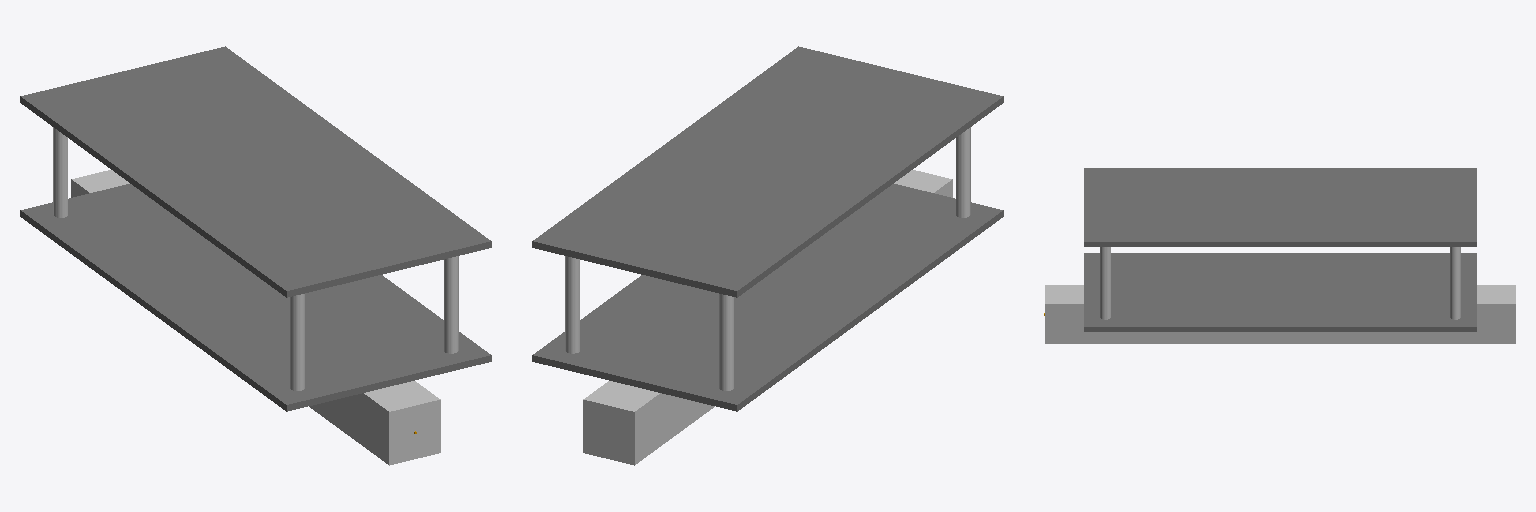
URDF robot description (kinect):
<?xml version="1.0" ?>
<!-- =================================================================================== -->
<!-- |    This document was autogenerated by xacro from kinect_mount.test.xacro        | -->
<!-- |    EDITING THIS FILE BY HAND IS NOT RECOMMENDED                                 | -->
<!-- =================================================================================== -->
<robot name="kinect" xmlns:controller="http://playerstage.sourceforge.net/gazebo/xmlschema/#controller" xmlns:interface="http://playerstage.sourceforge.net/gazebo/xmlschema/#interface" xmlns:sensor="http://playerstage.sourceforge.net/gazebo/xmlschema/#sensor" xmlns:xacro="http://ros.org/wiki/xacro">
  <!-- Included URDF Files -->
  <!-- add the root link -->
  <link name="base_link">
    <visual>
      <origin rpy="0 0 0" xyz="0 0 0"/>
      <geometry>
        <box size="0.001 0.001 0.001"/>
      </geometry>
    </visual>
  </link>
  <!-- Add the kinect camera -->
  <joint name="test_kinect_sensor_beam_joint" type="fixed">
    <origin rpy="-1.570795 -1.570795 0" xyz="0 0 0"/>
    <parent link="base_link"/>
    <child link="test_kinect_sensor_beam_link"/>
  </joint>
  <link name="test_kinect_sensor_beam_link">
    <inertial>
      <mass value="0.1"/>
      <origin rpy="0 0 0" xyz="0 0 0"/>
      <inertia ixx="0.01" ixy="0.0" ixz="0.0" iyy="0.01" iyz="0.0" izz="0.01"/>
    </inertial>
    <visual>
      <origin rpy="0 0 0" xyz="0 0 0.136525"/>
      <geometry>
        <box size="0.0254 0.0254 0.27305"/>
      </geometry>
      <material name="beam_grey">
        <color rgba="0.8 0.8 0.8 1"/>
      </material>
    </visual>
  </link>
  <joint name="test_kinect_base_plate_joint" type="fixed">
    <origin rpy="1.570795 0 1.570795" xyz="0.0127 0 0.136525"/>
    <parent link="test_kinect_sensor_beam_link"/>
    <child link="test_kinect_base_plate_link"/>
  </joint>
  <link name="test_kinect_base_plate_link">
    <inertial>
      <mass value="0.1"/>
      <origin rpy="0 0 0" xyz="0 0 0"/>
      <inertia ixx="0.01" ixy="0.0" ixz="0.0" iyy="0.01" iyz="0.0" izz="0.01"/>
    </inertial>
    <visual>
      <origin rpy="0 0 0" xyz="0 0 0.0015875"/>
      <geometry>
        <box size="0.1016 0.2286 0.003175"/>
      </geometry>
      <material name="sheet_grey">
        <color rgba="0.5 0.5 0.5 1"/>
      </material>
    </visual>
  </link>
  <joint name="test_kinect_standoff_1_joint" type="fixed">
    <origin rpy="0 0 0" xyz="0.0381 -0.1016 0.003175"/>
    <parent link="test_kinect_base_plate_link"/>
    <child link="test_kinect_standoff_1_link"/>
  </joint>
  <link name="test_kinect_standoff_1_link">
    <inertial>
      <mass value="0.1"/>
      <origin rpy="0 0 0" xyz="0 0 0"/>
      <inertia ixx="0.01" ixy="0.0" ixz="0.0" iyy="0.01" iyz="0.0" izz="0.01"/>
    </inertial>
    <visual>
      <origin rpy="0 0 0" xyz="0 0 0.0254"/>
      <geometry>
        <cylinder length="0.0508" radius="0.003175"/>
      </geometry>
      <material name="beam_grey">
        <color rgba="0.8 0.8 0.8 1"/>
      </material>
    </visual>
  </link>
  <joint name="test_kinect_standoff_2_joint" type="fixed">
    <origin rpy="0 0 0" xyz="0.0381 0.1016 0.003175"/>
    <parent link="test_kinect_base_plate_link"/>
    <child link="test_kinect_standoff_2_link"/>
  </joint>
  <link name="test_kinect_standoff_2_link">
    <inertial>
      <mass value="0.1"/>
      <origin rpy="0 0 0" xyz="0 0 0"/>
      <inertia ixx="0.01" ixy="0.0" ixz="0.0" iyy="0.01" iyz="0.0" izz="0.01"/>
    </inertial>
    <visual>
      <origin rpy="0 0 0" xyz="0 0 0.0254"/>
      <geometry>
        <cylinder length="0.0508" radius="0.003175"/>
      </geometry>
      <material name="beam_grey">
        <color rgba="0.8 0.8 0.8 1"/>
      </material>
    </visual>
  </link>
  <joint name="test_kinect_standoff_3_joint" type="fixed">
    <origin rpy="0 0 0" xyz="-0.0381 0.1016 0.003175"/>
    <parent link="test_kinect_base_plate_link"/>
    <child link="test_kinect_standoff_3_link"/>
  </joint>
  <link name="test_kinect_standoff_3_link">
    <inertial>
      <mass value="0.1"/>
      <origin rpy="0 0 0" xyz="0 0 0"/>
      <inertia ixx="0.01" ixy="0.0" ixz="0.0" iyy="0.01" iyz="0.0" izz="0.01"/>
    </inertial>
    <visual>
      <origin rpy="0 0 0" xyz="0 0 0.0254"/>
      <geometry>
        <cylinder length="0.0508" radius="0.003175"/>
      </geometry>
      <material name="beam_grey">
        <color rgba="0.8 0.8 0.8 1"/>
      </material>
    </visual>
  </link>
  <joint name="test_kinect_standoff_4_joint" type="fixed">
    <origin rpy="0 0 0" xyz="-0.0381 -0.1016 0.003175"/>
    <parent link="test_kinect_base_plate_link"/>
    <child link="test_kinect_standoff_4_link"/>
  </joint>
  <link name="test_kinect_standoff_4_link">
    <inertial>
      <mass value="0.1"/>
      <origin rpy="0 0 0" xyz="0 0 0"/>
      <inertia ixx="0.01" ixy="0.0" ixz="0.0" iyy="0.01" iyz="0.0" izz="0.01"/>
    </inertial>
    <visual>
      <origin rpy="0 0 0" xyz="0 0 0.0254"/>
      <geometry>
        <cylinder length="0.0508" radius="0.003175"/>
      </geometry>
      <material name="beam_grey">
        <color rgba="0.8 0.8 0.8 1"/>
      </material>
    </visual>
  </link>
  <joint name="test_kinect_top_plate_joint" type="fixed">
    <origin rpy="0 0 0" xyz="-0.0381 0.1016 0.0508"/>
    <parent link="test_kinect_standoff_1_link"/>
    <child link="test_kinect_top_plate_link"/>
  </joint>
  <link name="test_kinect_top_plate_link">
    <inertial>
      <mass value="0.1"/>
      <origin rpy="0 0 0" xyz="0 0 0"/>
      <inertia ixx="0.01" ixy="0.0" ixz="0.0" iyy="0.01" iyz="0.0" izz="0.01"/>
    </inertial>
    <visual>
      <origin rpy="0 0 0" xyz="0 0 0.0015875"/>
      <geometry>
        <box size="0.1016 0.2286 0.003175"/>
      </geometry>
      <material name="sheet_grey">
        <color rgba="0.5 0.5 0.5 1"/>
      </material>
    </visual>
  </link>
  <joint name="test_kinect_joint" type="fixed">
    <origin rpy="0 0 0" xyz="0.031242 -0.0137160 0.022352"/>
    <parent link="test_kinect_top_plate_link"/>
    <child link="test_kinect_link"/>
  </joint>
  <link name="test_kinect_link">
    <inertial>
      <mass value="0.1"/>
      <origin rpy="0 0 0" xyz="0 0 0"/>
      <inertia ixx="0.01" ixy="0.0" ixz="0.0" iyy="0.01" iyz="0.0" izz="0.01"/>
    </inertial>
    <visual>
      <origin rpy="0 0 0" xyz="0.0 0.012 0"/>
      <geometry>
        <mesh filename="package://pr2_description/meshes/sensors/kinect_v0/kinect.dae" scale="0.001 0.001 0.001"/>
      </geometry>
    </visual>
    <!--
      <collision>
        <origin xyz="0.0 0.012 0" rpy="0 0 0"/>
        <geometry>
          <mesh filename="package://pr2_description/meshes/sensors/kinect_v0/kinect.dae" scale="0.001 0.001 0.001" />
        </geometry>
      </collision>
-->
  </link>
  <gazebo reference="test_kinect_frame">
    <sensor:camera name="test_kinect_frame_sensor">
      <imageFormat>R8G8B8</imageFormat>
      <imageSize>640 480</imageSize>
      <hfov>57</hfov>
      <nearClip>0.01</nearClip>
      <farClip>5</farClip>
      <updateRate>20.0</updateRate>
      <baseline>0.2</baseline>
      <controller:gazebo_ros_openni_kinect name="test_kinect_frame_controller" plugin="libgazebo_ros_openni_kinect.so">
        <alwaysOn>true</alwaysOn>
        <updateRate>20.0</updateRate>
        <cameraName>test_kinect</cameraName>
        <imageTopicName>test_kinect/ir/image_raw</imageTopicName>
        <cameraInfoTopicName>test_kinect/ir/camera_info</cameraInfoTopicName>
        <depthImageTopicName>test_kinect/depth/image_raw</depthImageTopicName>
        <depthImageInfoTopicName>test_kinect/depth/camera_info</depthImageInfoTopicName>
        <pointCloudTopicName>test_kinect/depth/points</pointCloudTopicName>
        <frameName>test_kinect_optical_frame</frameName>
        <pointCloudCutoff>0.5</pointCloudCutoff>
        <distortionK1>0.00000001</distortionK1>
        <distortionK2>0.00000001</distortionK2>
        <distortionK3>0.00000001</distortionK3>
        <distortionT1>0.00000001</distortionT1>
        <distortionT2>0.00000001</distortionT2>
      </controller:gazebo_ros_openni_kinect>
    </sensor:camera>
  </gazebo>
</robot>

--- What the picture shows (computed from the rendered views, not written in the file) ---
The picture shows the robot from 3 angles, left to right: view 1: azimuth 30°, elevation 25°; view 2: azimuth 150°, elevation 25°; view 3: azimuth 270°, elevation 25°; orthographic projection.
Robot: kinect — 9 links, 8 joints (8 fixed); root link base_link; default pose: every joint at zero.
Visible links, largest first — view 1: test_kinect_top_plate_link, test_kinect_base_plate_link, test_kinect_sensor_beam_link, test_kinect_standoff_1_link, test_kinect_standoff_4_link, test_kinect_standoff_3_link; view 2: test_kinect_top_plate_link, test_kinect_base_plate_link, test_kinect_sensor_beam_link, test_kinect_standoff_2_link, test_kinect_standoff_3_link, test_kinect_standoff_4_link; view 3: test_kinect_top_plate_link, test_kinect_base_plate_link, test_kinect_sensor_beam_link, test_kinect_standoff_1_link, test_kinect_standoff_2_link.
Link boxes in pixels (left/top/right/bottom): test_kinect_top_plate_link: left=20, top=46, right=491, bottom=297; test_kinect_base_plate_link: left=20, top=184, right=491, bottom=411; test_kinect_sensor_beam_link: left=71, top=170, right=440, bottom=465; test_kinect_standoff_1_link: left=444, top=256, right=458, bottom=353; test_kinect_standoff_4_link: left=290, top=294, right=304, bottom=390; test_kinect_standoff_3_link: left=53, top=127, right=67, bottom=217; test_kinect_top_plate_link: left=532, top=46, right=1003, bottom=297; test_kinect_base_plate_link: left=532, top=184, right=1003, bottom=411; test_kinect_sensor_beam_link: left=583, top=170, right=952, bottom=465; test_kinect_standoff_2_link: left=565, top=256, right=579, bottom=353; test_kinect_standoff_3_link: left=719, top=294, right=733, bottom=390; test_kinect_standoff_4_link: left=956, top=127, right=970, bottom=217; test_kinect_top_plate_link: left=1084, top=168, right=1476, bottom=246; test_kinect_base_plate_link: left=1084, top=253, right=1476, bottom=331; test_kinect_sensor_beam_link: left=1045, top=285, right=1515, bottom=343; test_kinect_standoff_1_link: left=1100, top=247, right=1110, bottom=319; test_kinect_standoff_2_link: left=1450, top=247, right=1460, bottom=319.
Bounding box of the posed robot: 0.1016 × 0.2736 × 0.0826 m (x, y, z).
Meshes: 1 distinct files referenced, 0 mesh visuals loaded (none loaded); not drawn: 1 (reference not matched to a file when rendering).